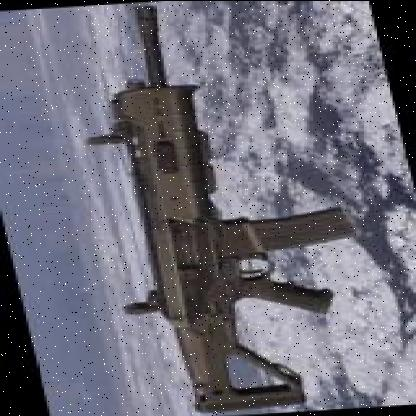rifle: (63, 0, 396, 416)
